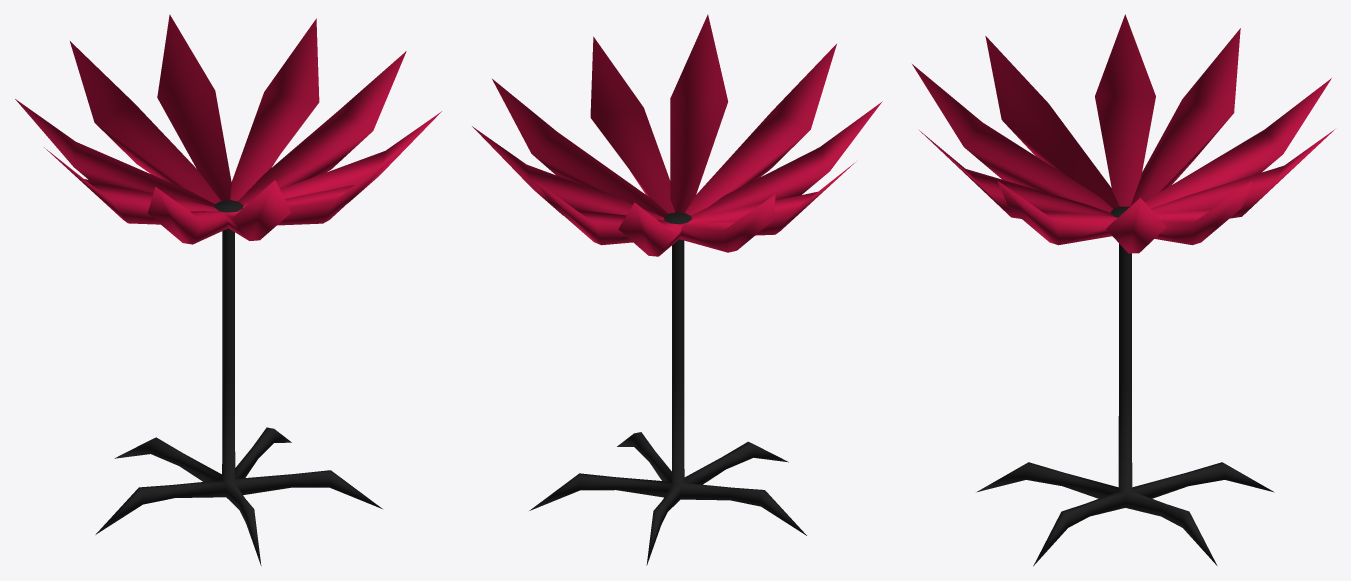
Rendered from FlowerP2_1.FBX.
3 views of the same model, side by side, from view 1: azimuth 30°, elevation 25°; view 2: azimuth 150°, elevation 25°; view 3: azimuth 270°, elevation 25° (orthographic). The views are drawn at different scales.
Visible parts, largest first — view 1: Object001; view 2: Object001; view 3: Object001.
Part boxes in pixels (left/top/right/bottom): Object001: left=15, top=14, right=441, bottom=565; Object001: left=472, top=14, right=882, bottom=565; Object001: left=912, top=14, right=1334, bottom=566.
Bounding box in the file's own units: 0.7044 × 0.7518 × 0.689.
